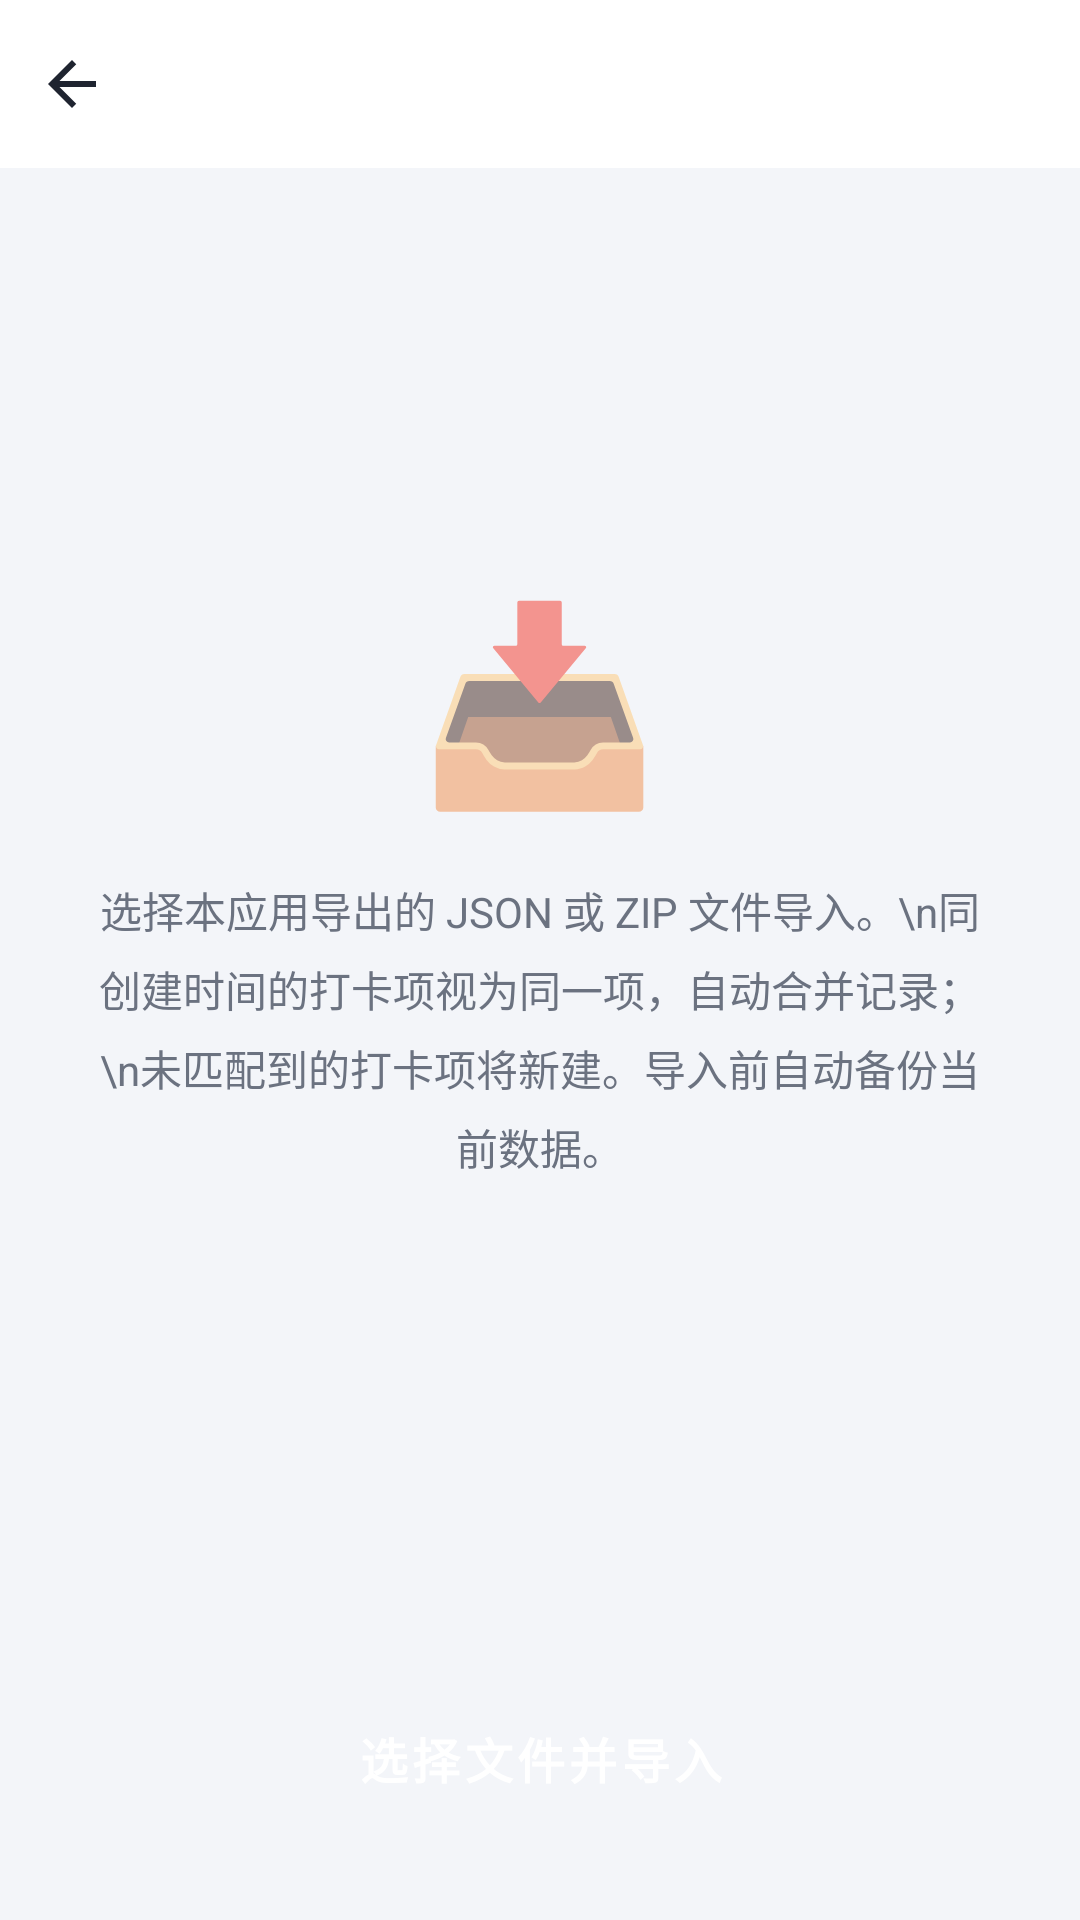

Icon click points for this 1080px x 1920px phone screenshot, format point (x, y):
返回: point (72, 84)
